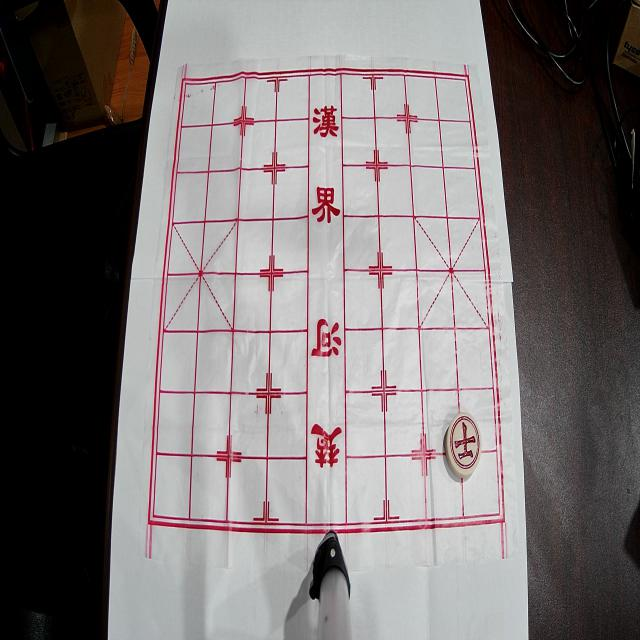red-guard: (445, 412, 482, 478)
